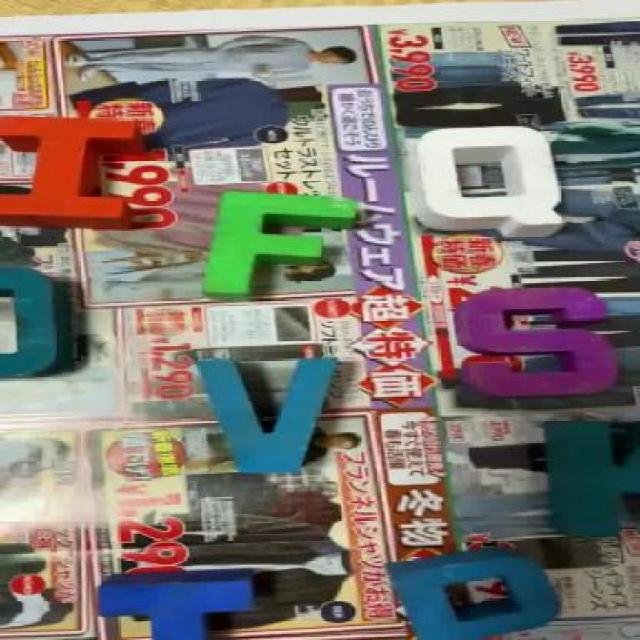F: (206, 191, 352, 291)
I: (3, 115, 140, 227)
Q: (415, 122, 560, 236)
S: (458, 287, 608, 393)
V: (206, 358, 337, 467)
